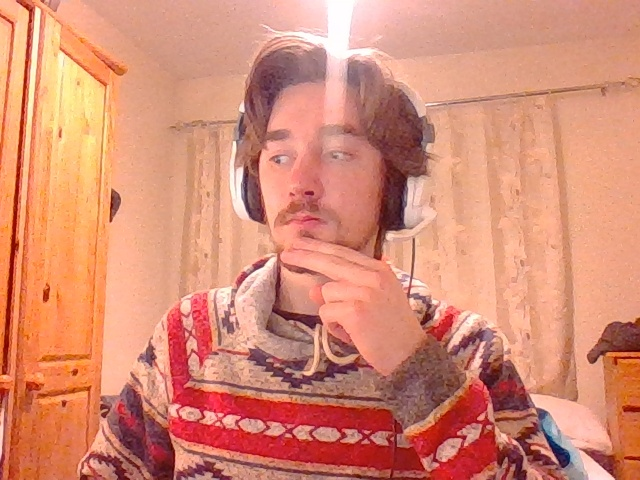afternoon: (275, 237, 429, 362)
